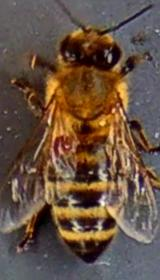varroa_mite: (46, 125, 88, 159)
